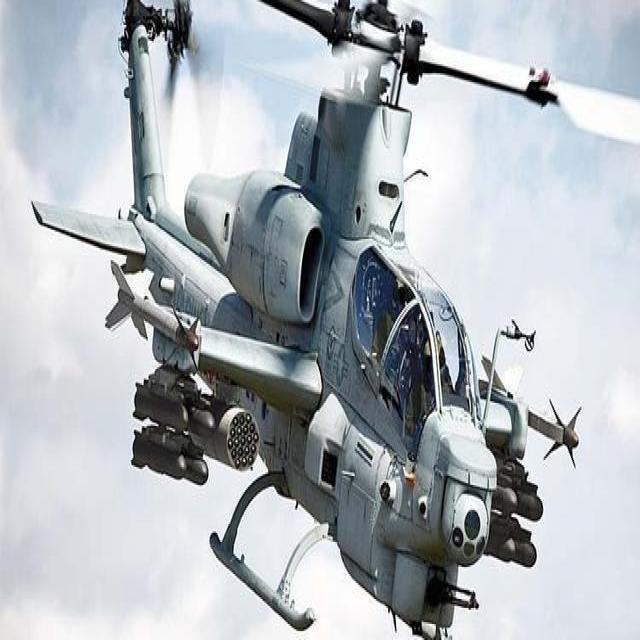MIL_HELO: (37, 0, 622, 640)
